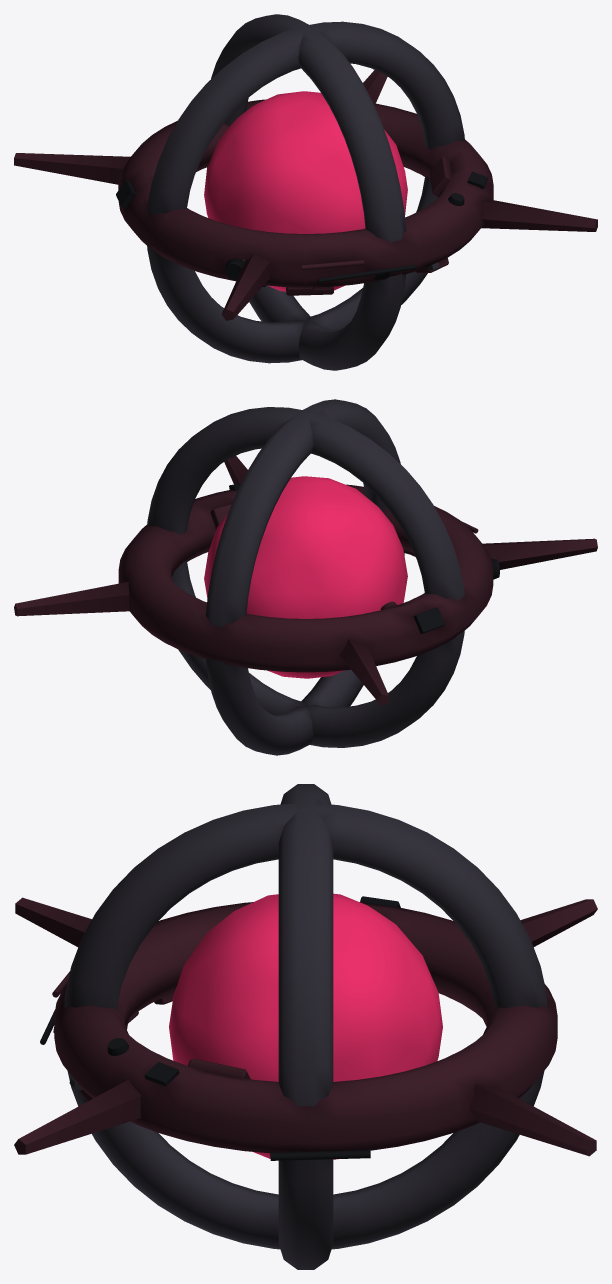
The model's file is tractorEmitter-transformed.glb.
3 renders of one model, top to bottom at view 1: azimuth 30°, elevation 25°; view 2: azimuth 150°, elevation 25°; view 3: azimuth 270°, elevation 25°, orthographic. The views are drawn at different scales.
Parts seen in each view (by area): view 1: tractorEmitter; view 2: tractorEmitter; view 3: tractorEmitter.
Boxes of the visible parts, x1,y1,x2,y2 form: tractorEmitter: [14, 14, 597, 370]; tractorEmitter: [14, 399, 597, 755]; tractorEmitter: [14, 784, 597, 1269].
Size of the model in its own units: 110 by 91.57 by 110.
